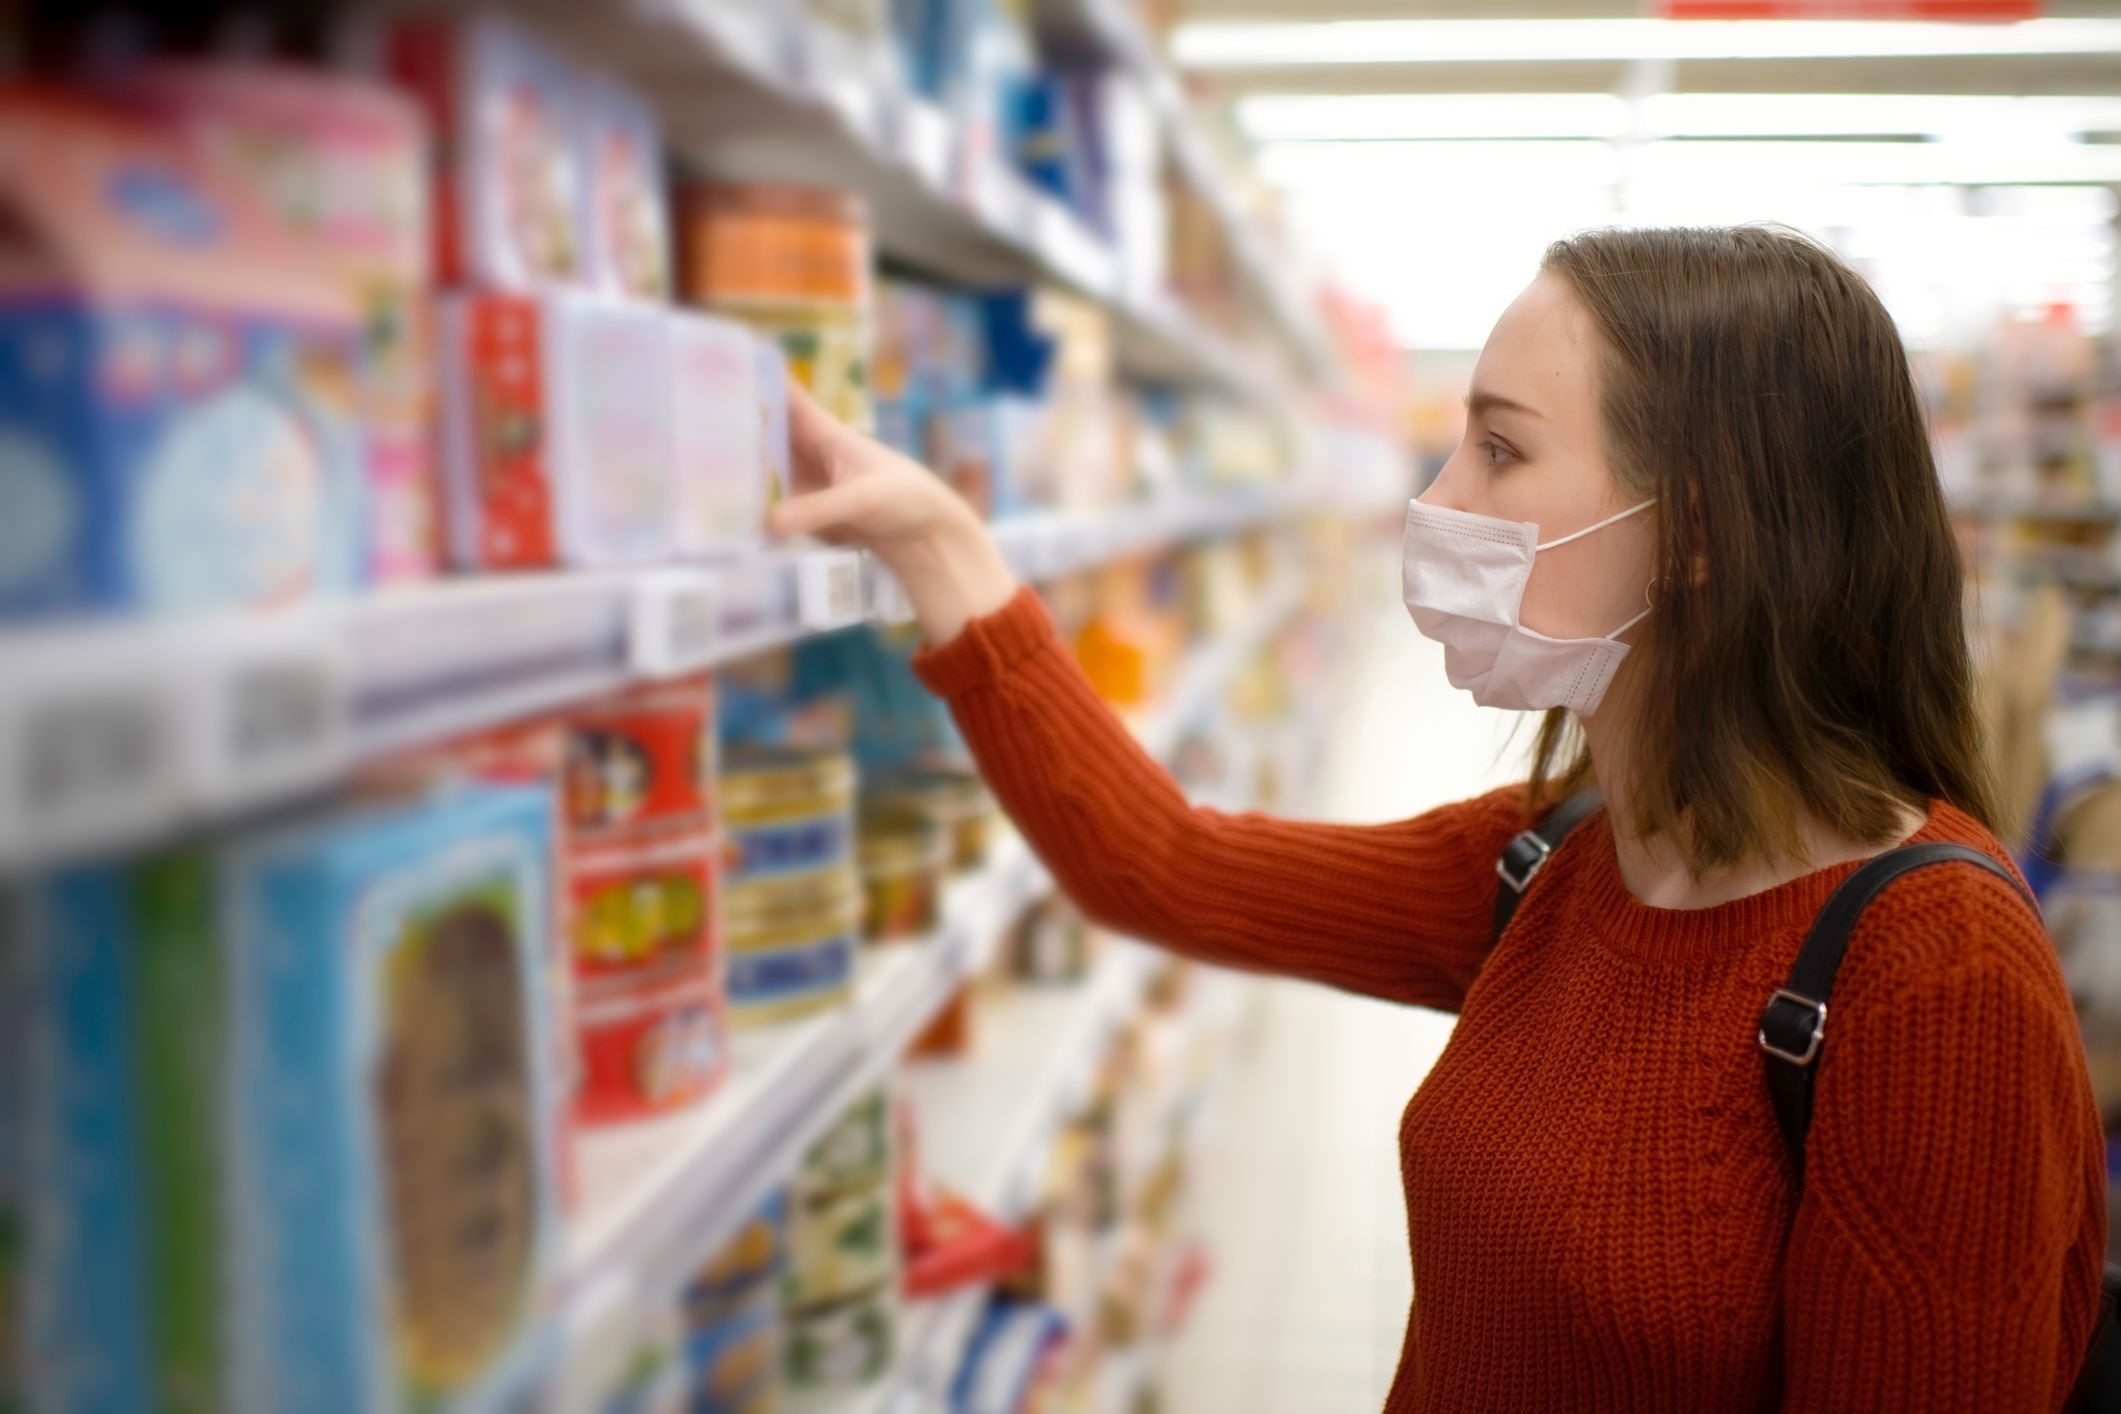face_with_mask: (1395, 218, 1956, 730)
